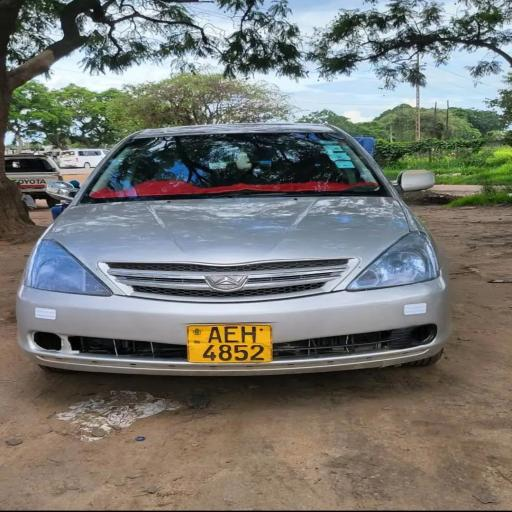number-plates: (189, 325, 273, 364)
